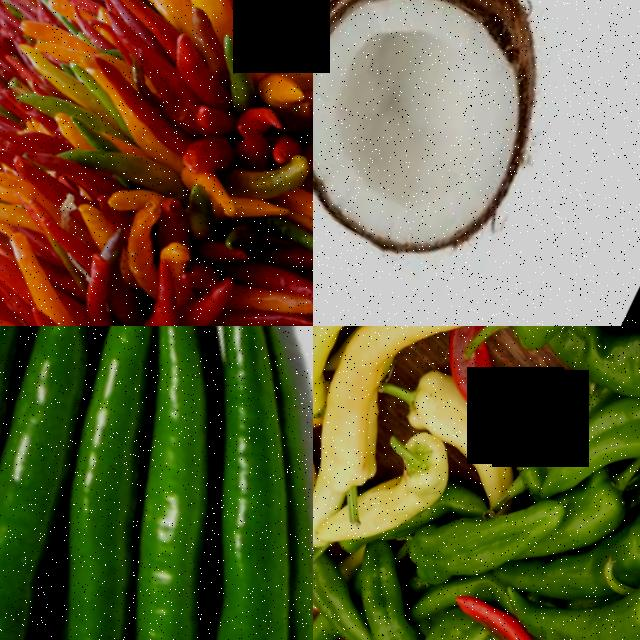chilli: (23, 326, 223, 526), (0, 326, 92, 640), (0, 326, 151, 479), (422, 326, 590, 450), (418, 569, 588, 640), (126, 250, 200, 326), (0, 292, 104, 326)
coconut: (313, 0, 589, 296)
